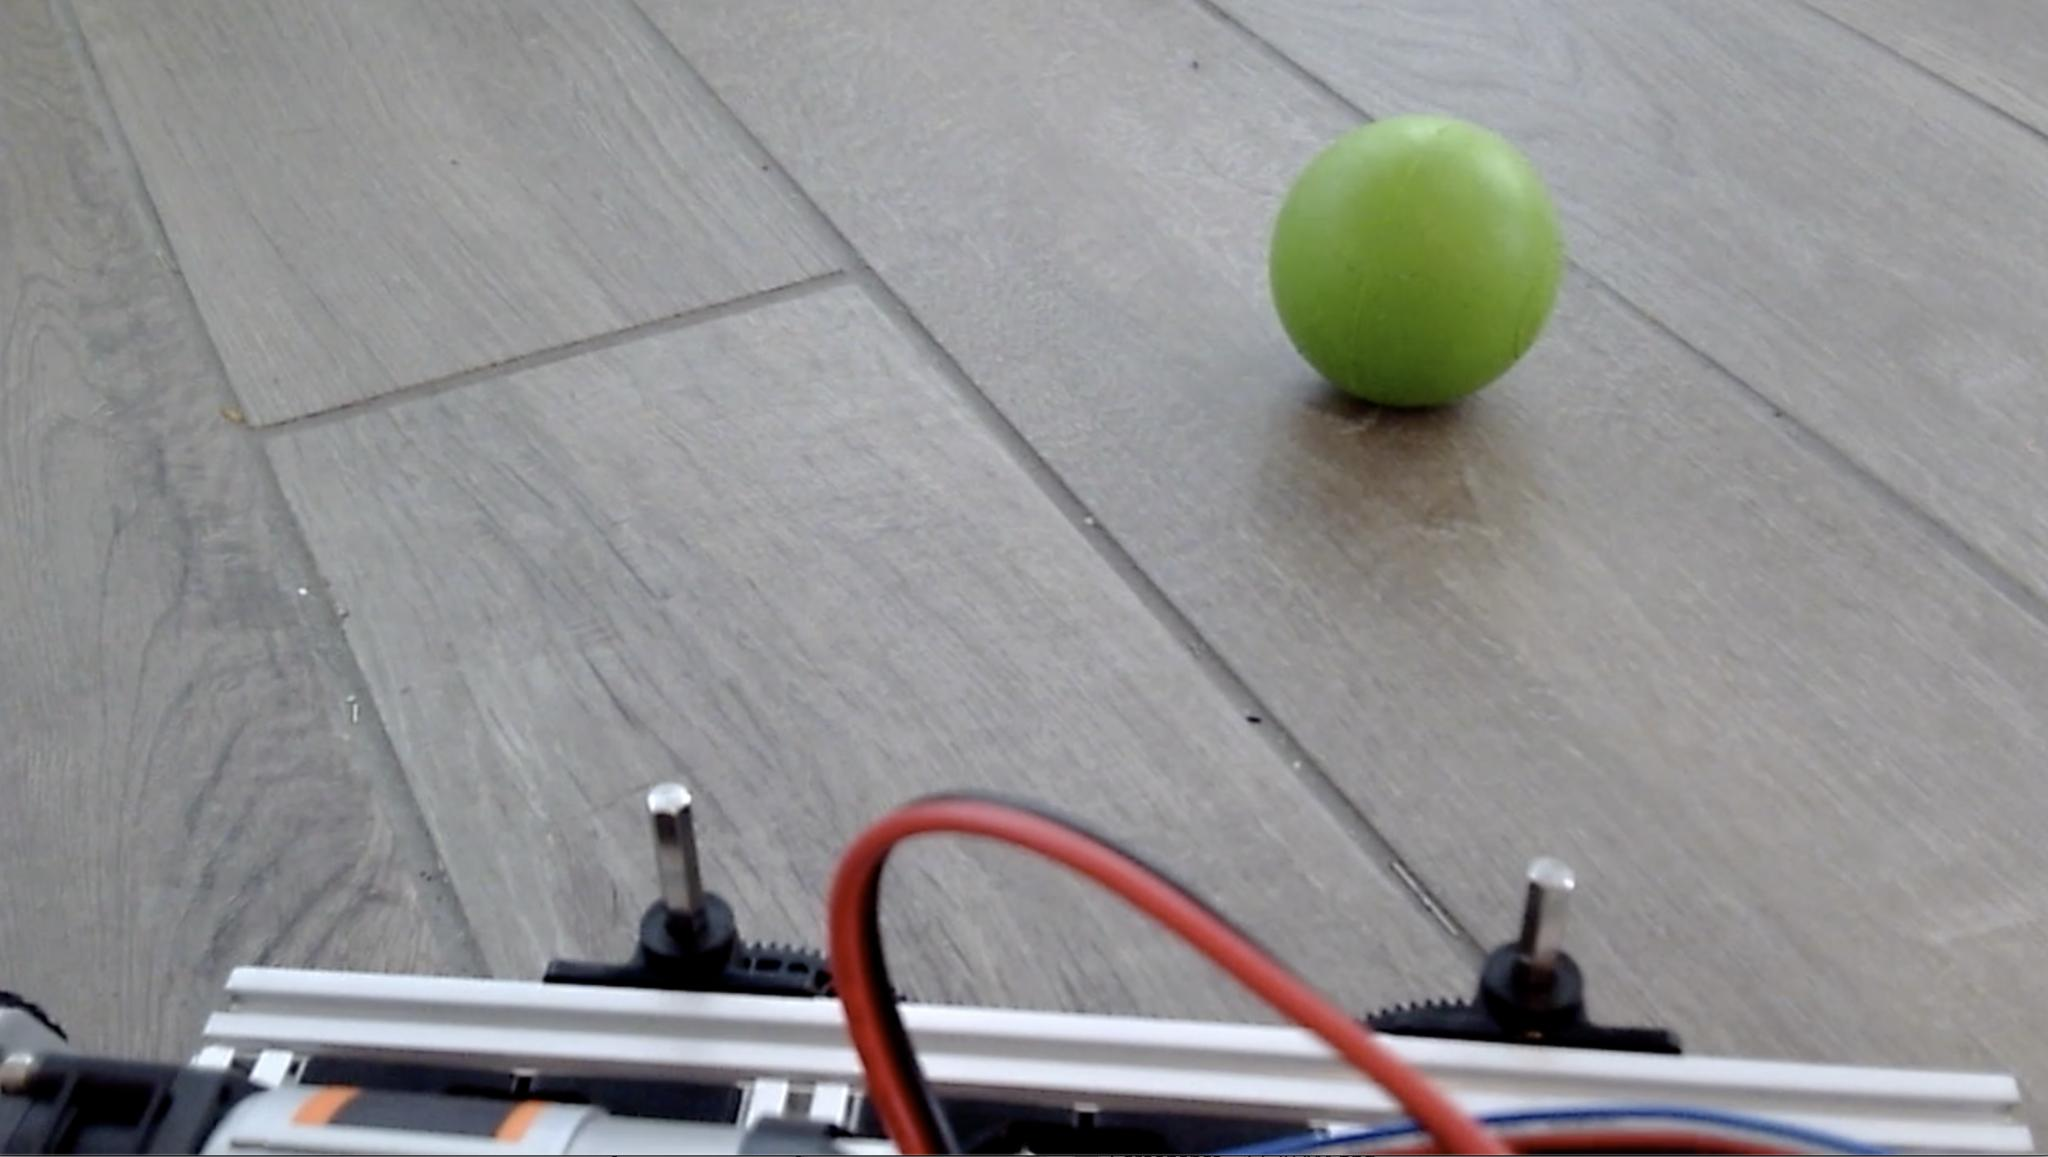greenball: (1265, 110, 1566, 411)
